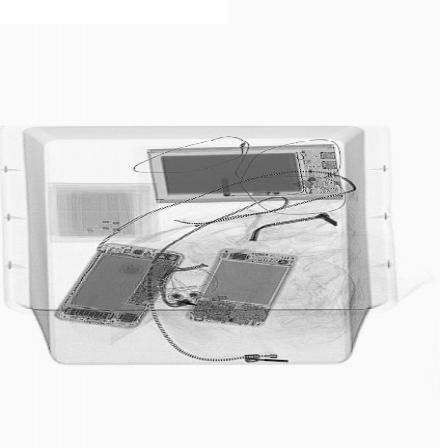Powerbank: (139, 141, 343, 205)
